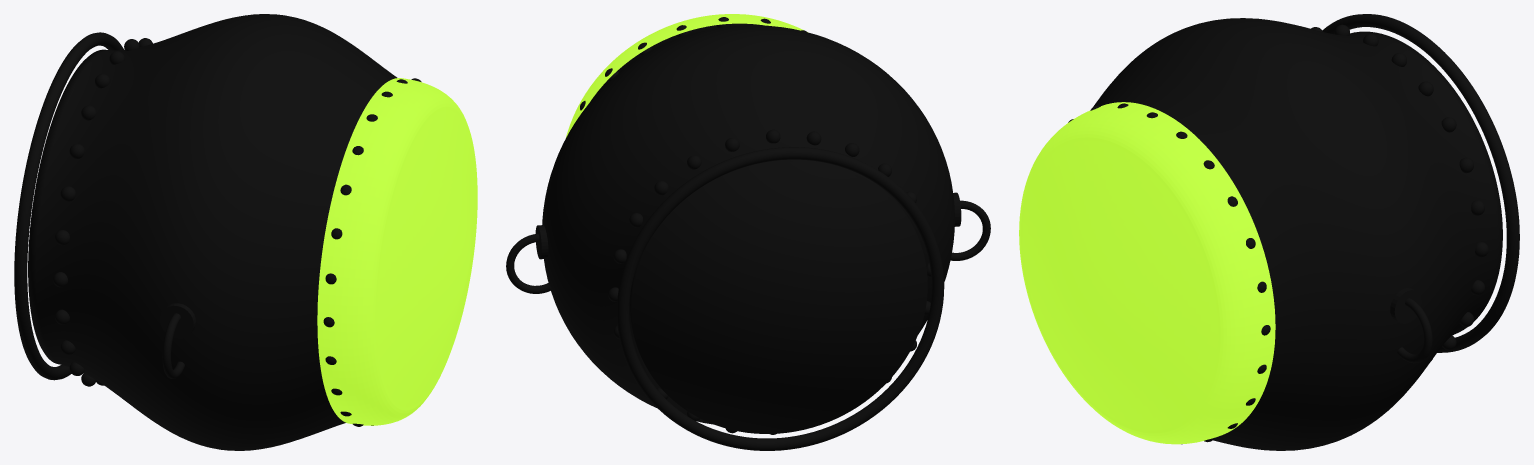
The picture shows the model from 3 angles, left to right: view 1: azimuth 30°, elevation 25°; view 2: azimuth 150°, elevation 25°; view 3: azimuth 270°, elevation 25°; orthographic projection. The views are drawn at different scales.
Parts seen in each view (by area): view 1: barrel, skin, far_lip, za_-1, kan_-1; view 2: barrel, far_lip, skin, kan_1, kan_-1; view 3: barrel, skin, far_lip, kan_1, za_1.
Boxes of the visible parts, x1,y1,x2,y2 form: barrel: (28,14,397,450); skin: (317,78,477,425); far_lip: (14,32,123,380); za_-1: (160,303,195,338); kan_-1: (162,313,184,378); barrel: (542,23,954,433); far_lip: (617,147,944,450); skin: (565,14,807,138); kan_1: (506,233,551,293); kan_-1: (950,200,990,260); barrel: (1093,18,1502,450); skin: (1019,102,1275,444); far_lip: (1322,14,1519,352); kan_1: (1397,298,1432,363); za_1: (1390,288,1421,323).
Size of the model in its own units: 1.7 by 1.5 by 1.71.
